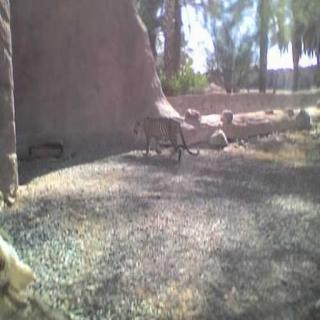Leopard: (132, 107, 209, 186)
